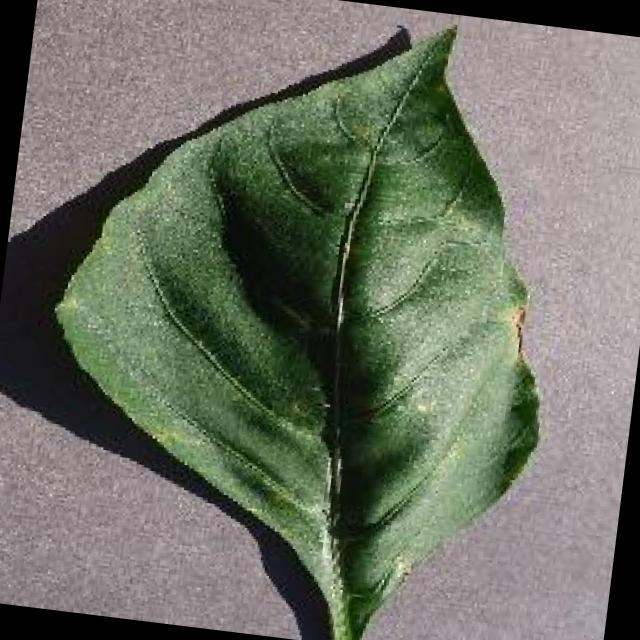Chilli_Bacterial_Spot: (13, 0, 591, 640), (502, 298, 532, 352), (401, 383, 440, 422), (505, 300, 529, 332)
